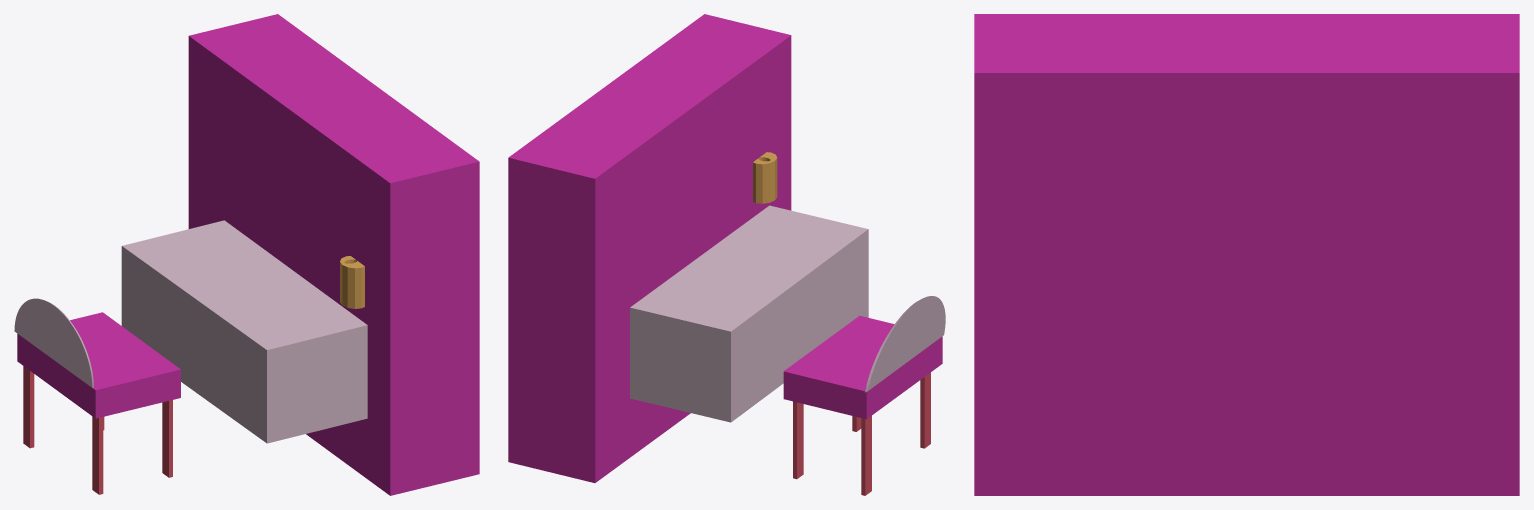
Rendered from Mighty Kasi-Juttuli (2).glb.
3 renders of one model, left to right at view 1: azimuth 30°, elevation 25°; view 2: azimuth 150°, elevation 25°; view 3: azimuth 270°, elevation 25°, orthographic. The views are drawn at different scales.
Visible parts, largest first — view 1: Mesh_Mesh_head_geo.001_lambert2SG.001; view 2: Mesh_Mesh_head_geo.001_lambert2SG.001; view 3: Mesh_Mesh_head_geo.001_lambert2SG.001.
Boxes of the visible parts, x1=… form: Mesh_Mesh_head_geo.001_lambert2SG.001: x1=14, y1=14, x2=479, y2=495; Mesh_Mesh_head_geo.001_lambert2SG.001: x1=508, y1=14, x2=945, y2=495; Mesh_Mesh_head_geo.001_lambert2SG.001: x1=974, y1=14, x2=1519, y2=495.
Bounding box in the file's own units: 83 × 77 × 90.
